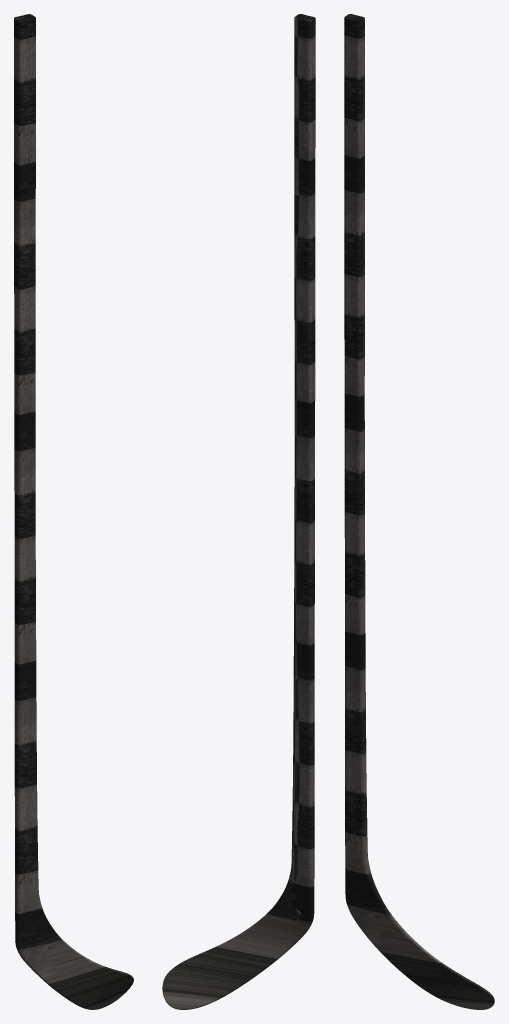
The model's file is P81-SBT.glb.
3 views of the same model, side by side, from view 1: azimuth 30°, elevation 25°; view 2: azimuth 150°, elevation 25°; view 3: azimuth 330°, elevation 25° (orthographic). The views are drawn at different scales.
Parts seen in each view (by area): view 1: geometry_0; view 2: geometry_0; view 3: geometry_0.
Boxes of the visible parts, <box> form: geometry_0: <box>14,14,133,1009</box>; geometry_0: <box>162,14,315,1009</box>; geometry_0: <box>344,14,494,1009</box>.
Size of the model in its own units: 227 by 1650 by 81.5.
Materials: 1 (1 with a texture image).
